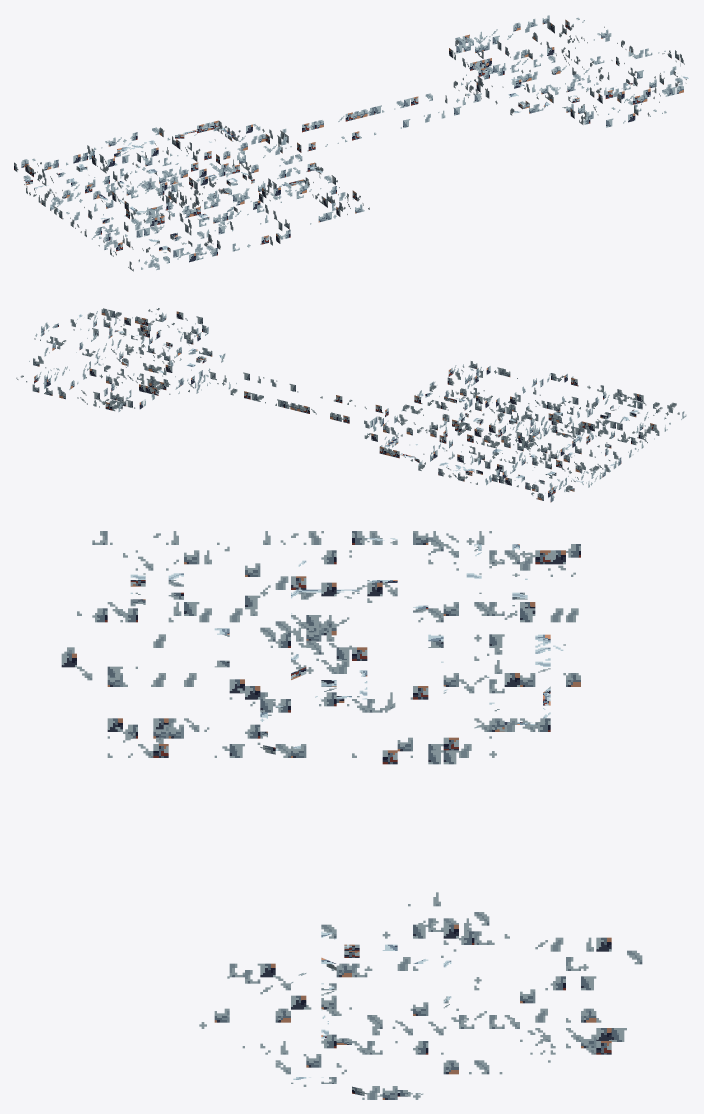
File: map4.gltf
3 renders of one model, top to bottom at view 1: azimuth 30°, elevation 25°; view 2: azimuth 150°, elevation 25°; view 3: azimuth 270°, elevation 25°, orthographic. The views are drawn at different scales.
Bounding box in the file's own units: 344 × 6 × 152.
